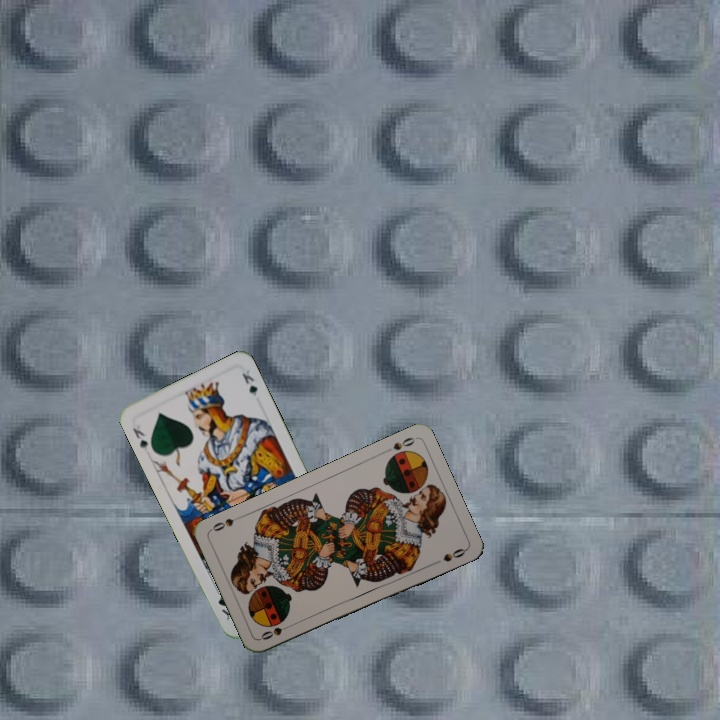GK: (128, 418, 150, 453)
SO: (380, 433, 418, 456), (257, 620, 295, 642)
